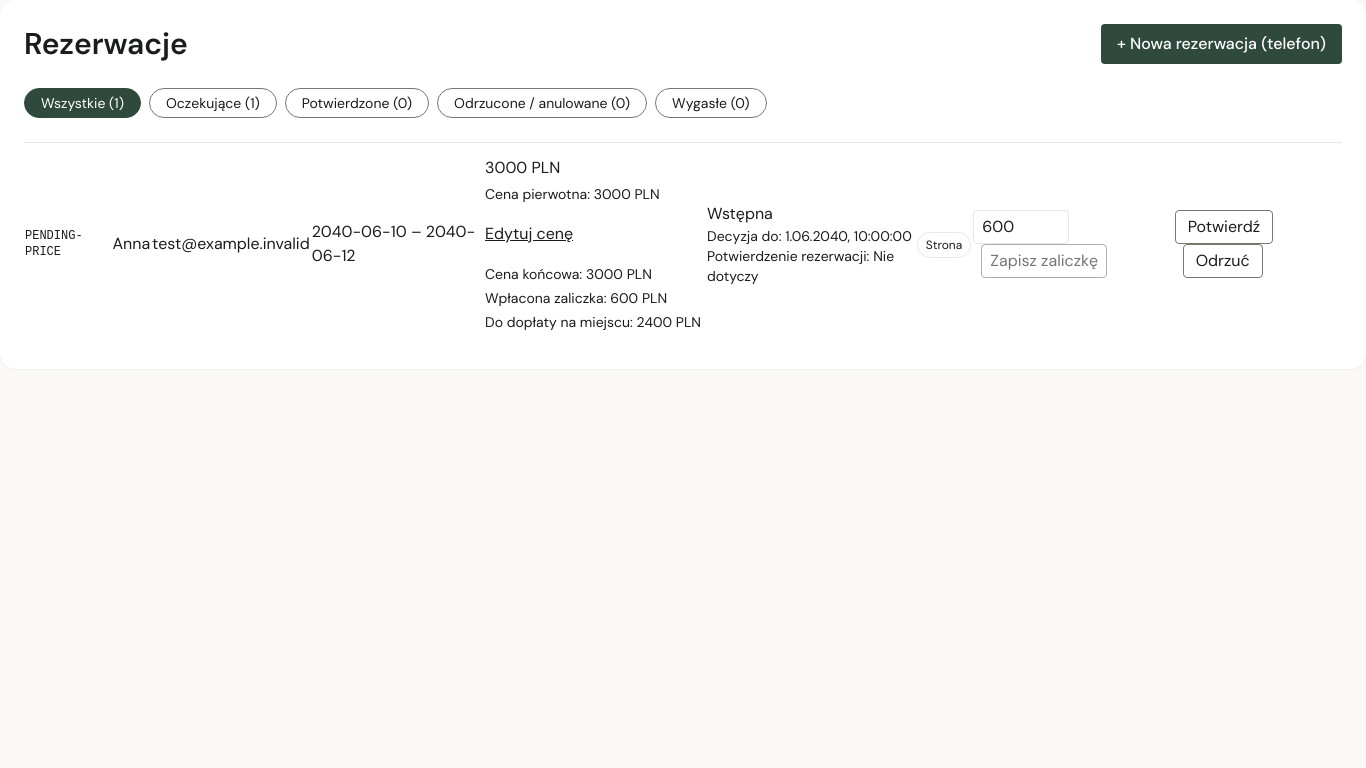
Test case: pending booking price editor › rejects an invalid manual amount -1 without saving
Expected: the text "Anna" is shown, [111, 142, 151, 345]
Step 1. Click the button "Edytuj cenę" → (529, 234), box [485, 212, 573, 256]
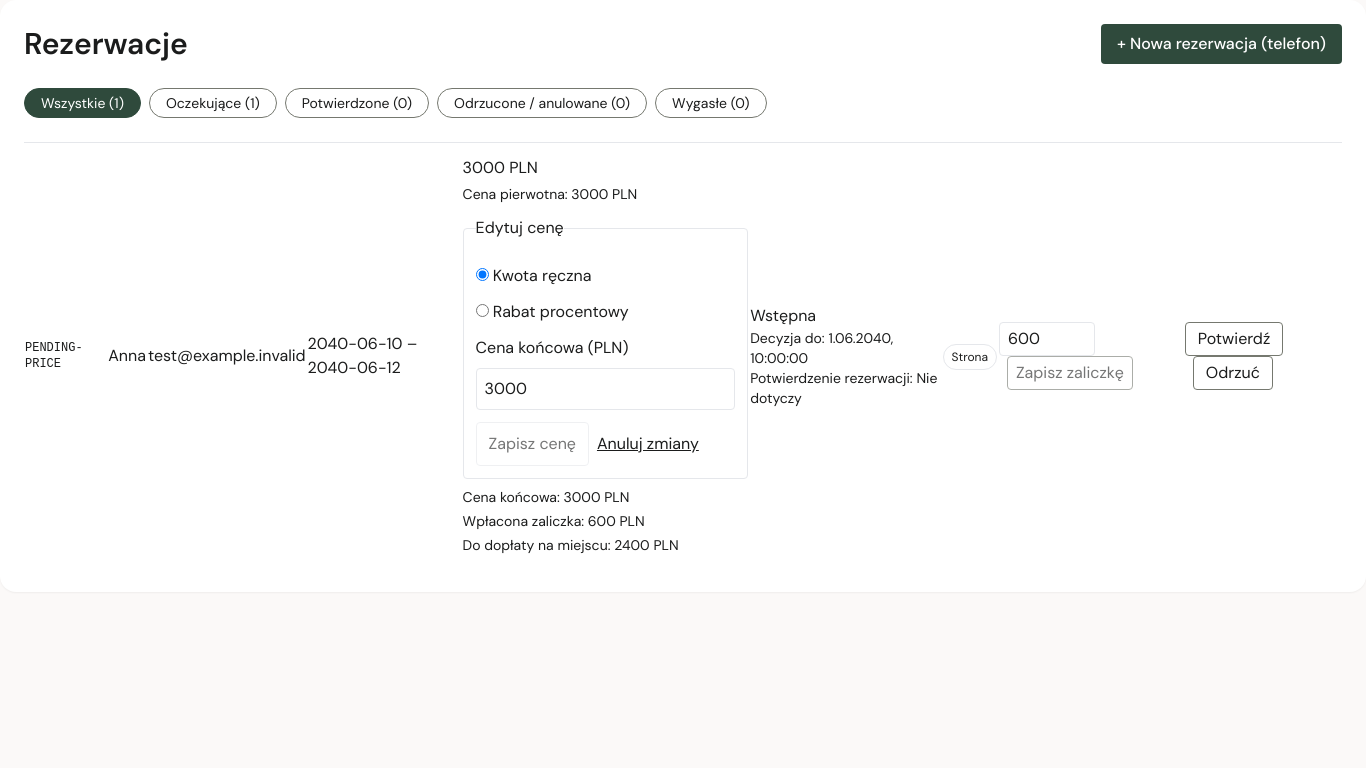
Step 2. Replace the text in the field labelled "Cena końcowa (PLN)" with "-1" → (605, 389), box [476, 368, 735, 410]
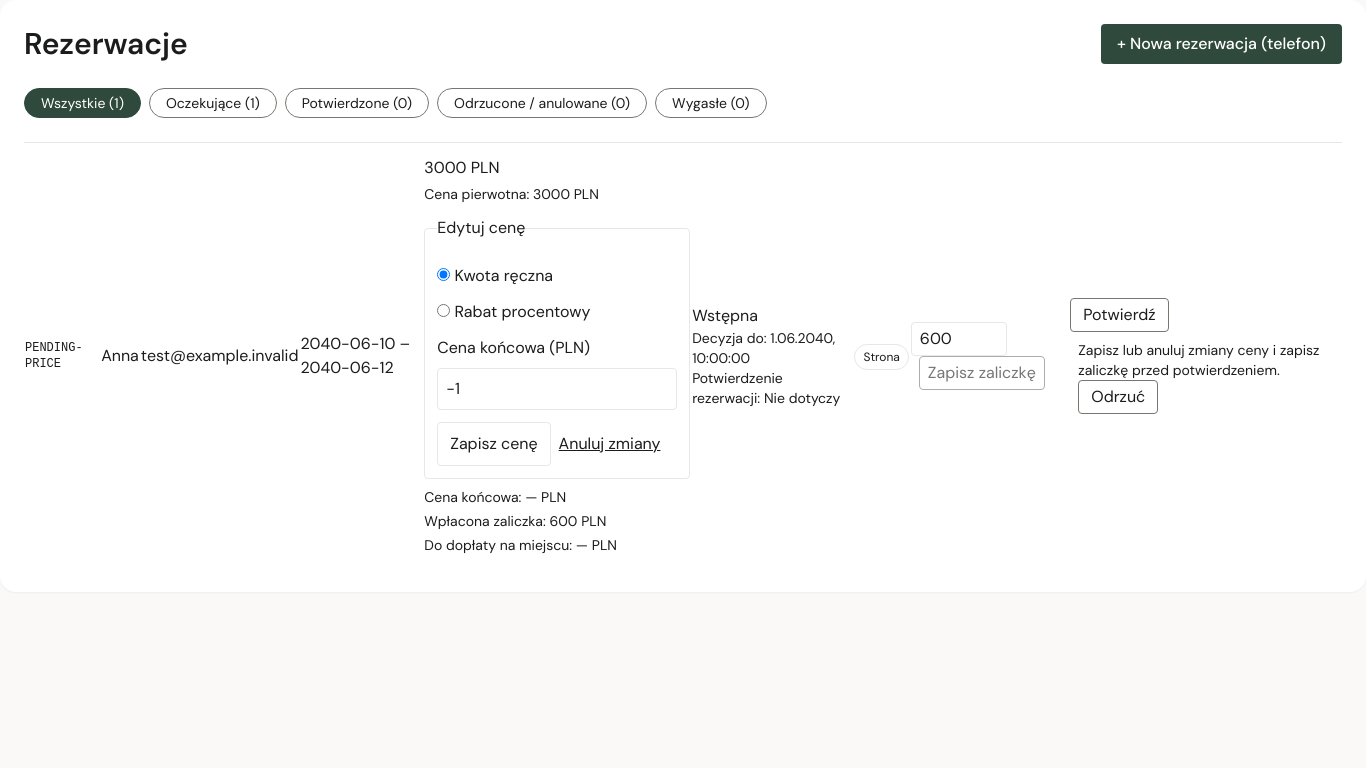
Step 3. Click the button "Zapisz cenę" → (494, 444), box [437, 422, 551, 466]
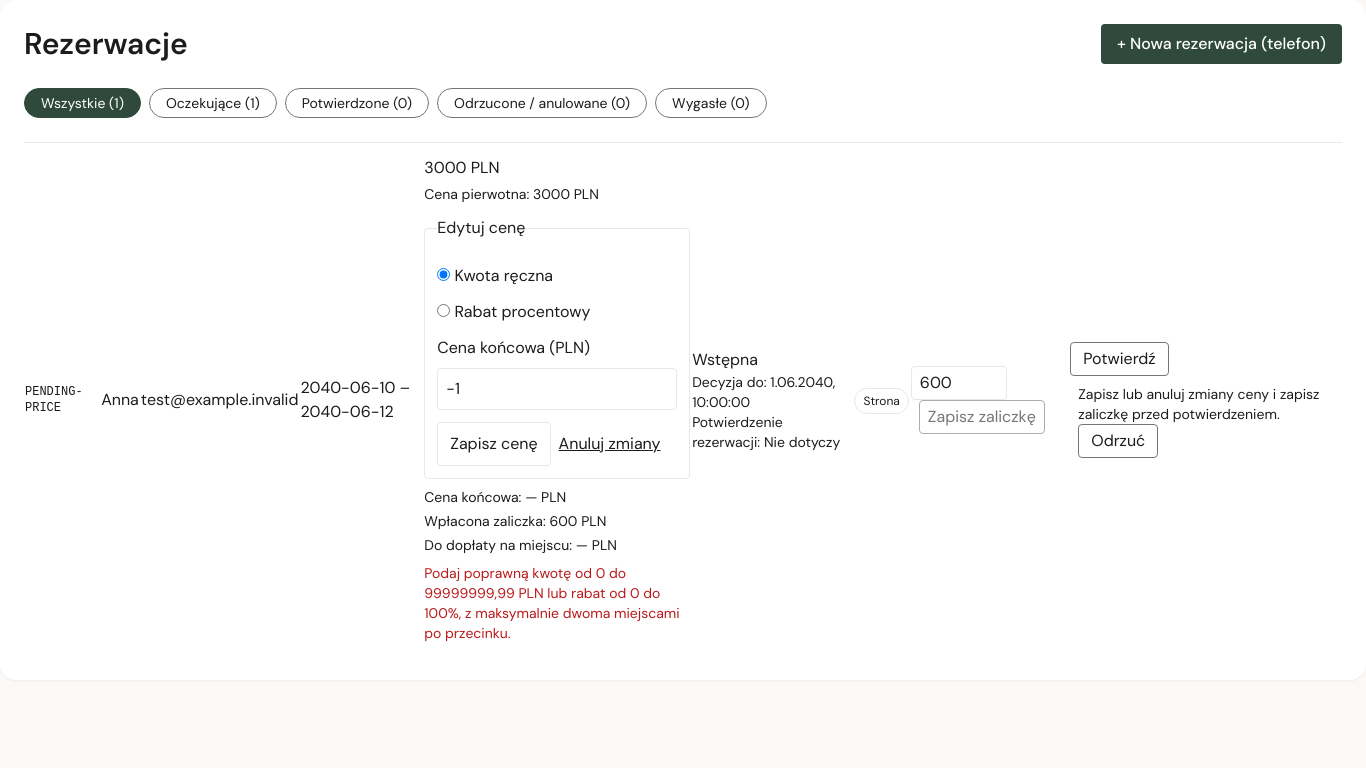
Now the button "Potwierdź" is disabled, box [1070, 342, 1169, 376]
Now the message shows "Podaj poprawną kwotę", box [424, 564, 680, 642]
